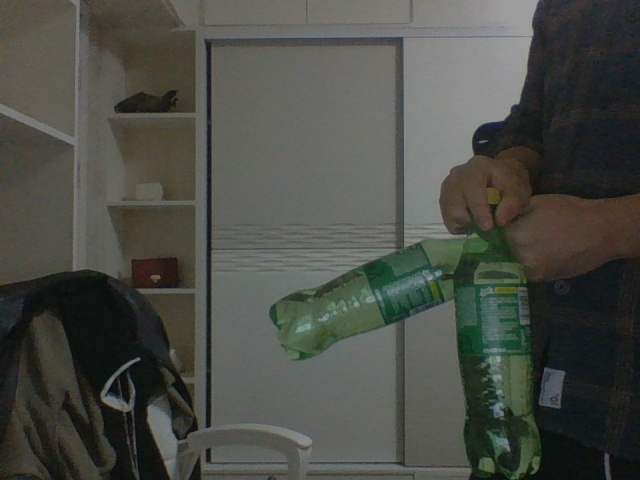Sprite: (452, 188, 543, 475), (269, 237, 457, 361)
